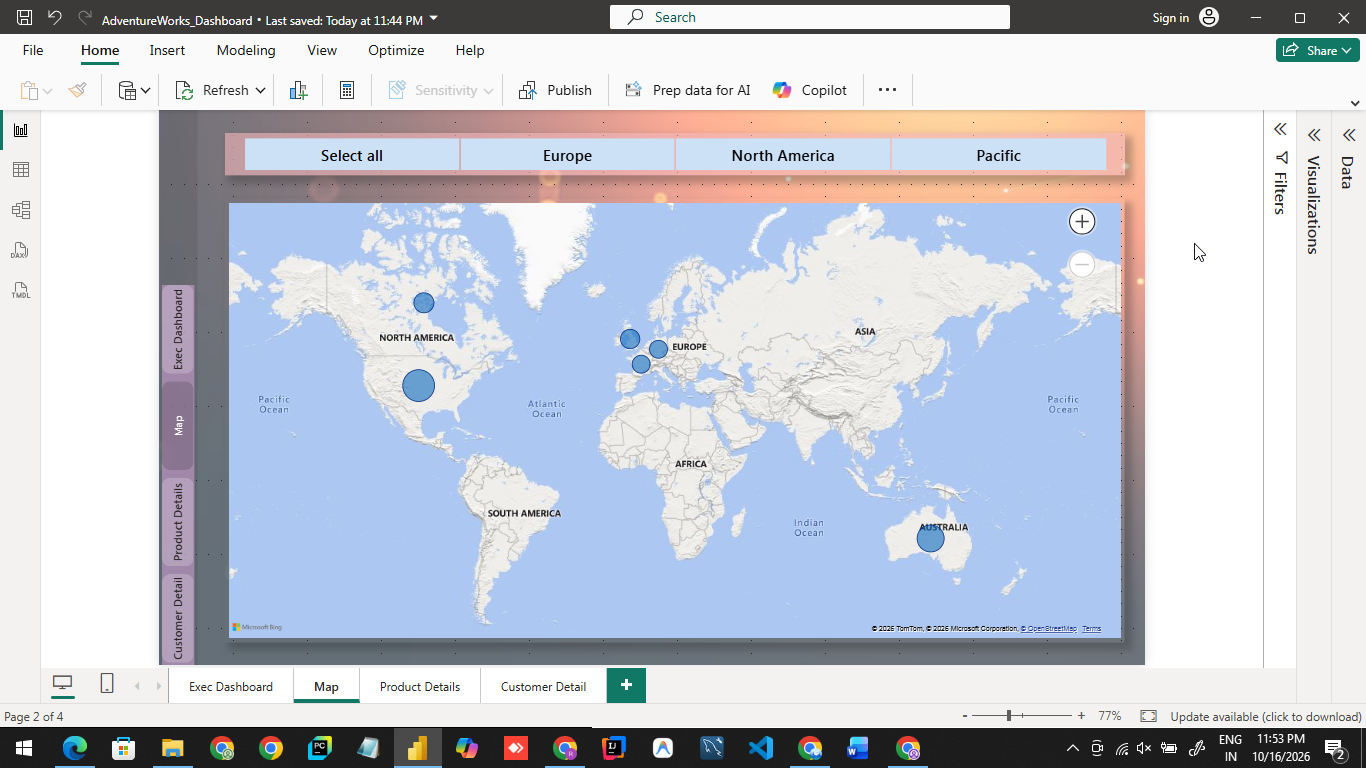

What the dashboard file says about the page in this screenshot:
{"tool":"powerbi","page":{"name":"Map","canvas":[1280,720],"ordinal":1},"visuals":[{"type":"map","fields":{"Category":["Territory Lookup.Country"],"Size":["Measure Table.Total Orders"]},"box":[85,115,1166.7,575],"z":0},{"type":"slicer","fields":{"Values":["Territory Lookup.Continent"]},"box":[85,30,1166.7,55],"z":1000},{"type":"shape","box":[0,0,50,720],"z":2000},{"type":"pageNavigator","box":[3.3,226.7,41.7,493.3],"z":3000}]}

Visuals, with their boxes on the page's 1280x720 design canvas (x1, y1, x2, y2). These are canvas units, not pixel positions in the 1366x768 screenshot, which may show the page scaled, cropped or inside an application window:
map - Territory Lookup.Country x Measure Table.Total Orders: <bbox>85, 115, 1252, 690</bbox>
slicer - Territory Lookup.Continent: <bbox>85, 30, 1252, 85</bbox>
shape: <bbox>0, 0, 50, 720</bbox>
pageNavigator: <bbox>3, 227, 45, 720</bbox>
